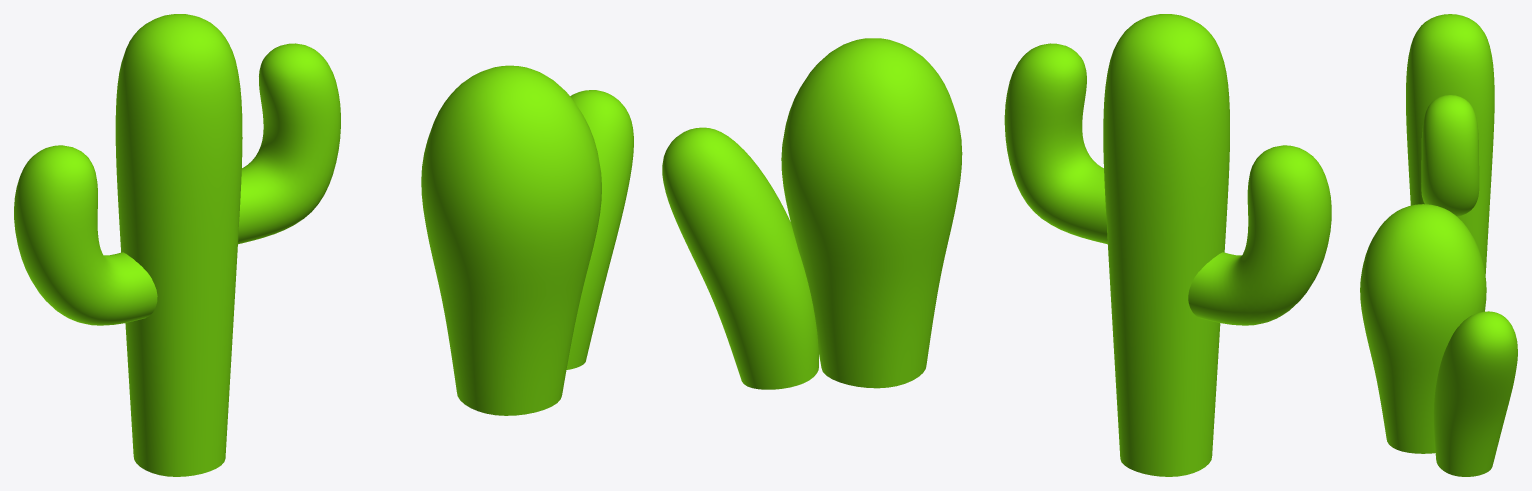
Rendered from cactus.fbx.
3 views of the same model, side by side, from view 1: azimuth 30°, elevation 25°; view 2: azimuth 150°, elevation 25°; view 3: azimuth 270°, elevation 25° (orthographic). The views are drawn at different scales.
Visible parts, largest first — view 1: cactus, cactus.001; view 2: cactus, cactus.001; view 3: cactus.001, cactus.
Part boxes in pixels (x1=…): cactus: x1=14, y1=14, x2=340, y2=476; cactus.001: x1=421, y1=65, x2=633, y2=415; cactus: x1=1004, y1=14, x2=1331, y2=476; cactus.001: x1=662, y1=38, x2=962, y2=389; cactus.001: x1=1360, y1=204, x2=1517, y2=476; cactus: x1=1406, y1=14, x2=1494, y2=275.
Size of the model in its own units: 417 by 279 by 126.
